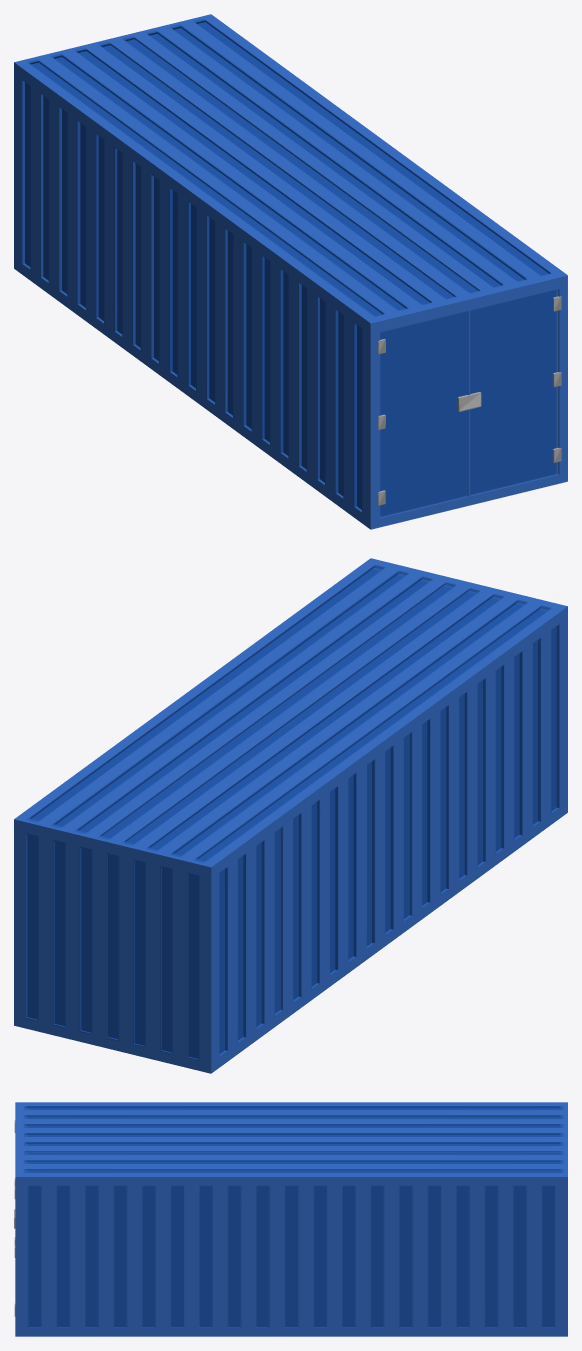
Rendered from plavi kontejner.fbx.
The picture shows the model from 3 angles, top to bottom: view 1: azimuth 30°, elevation 25°; view 2: azimuth 150°, elevation 25°; view 3: azimuth 270°, elevation 25°; orthographic projection. The views are drawn at different scales.
Visible parts, largest first — view 1: Cube.002; view 2: Cube.002; view 3: Cube.002.
Boxes of the visible parts, box(x1,y1,x2,y2) form: Cube.002: box(14, 14, 567, 529); Cube.002: box(14, 558, 567, 1073); Cube.002: box(14, 1102, 567, 1336).
Bounding box in the file's own units: 229 × 229 × 720.
1 material, 1 textured.
